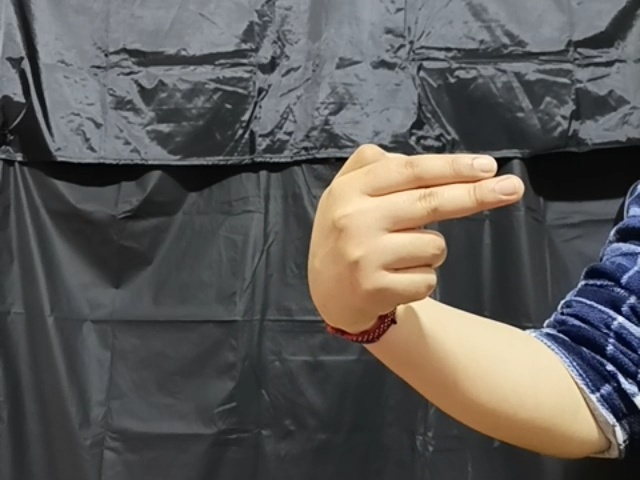H: (304, 140, 525, 329)
